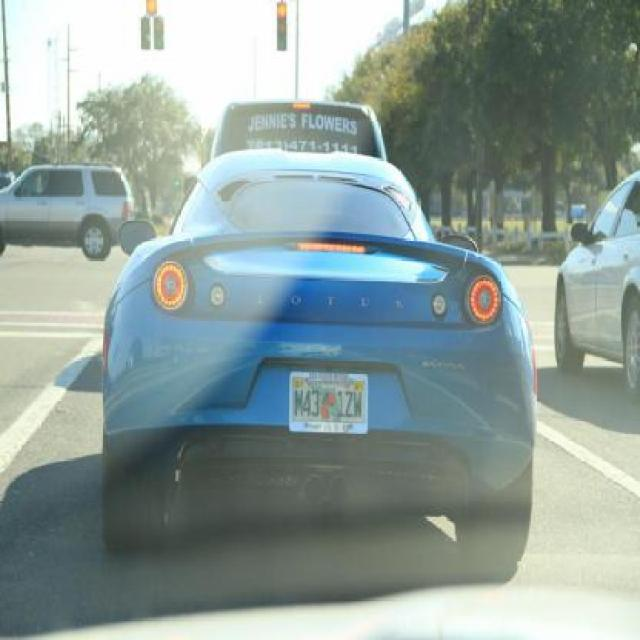License-Plates: (289, 370, 368, 434)
